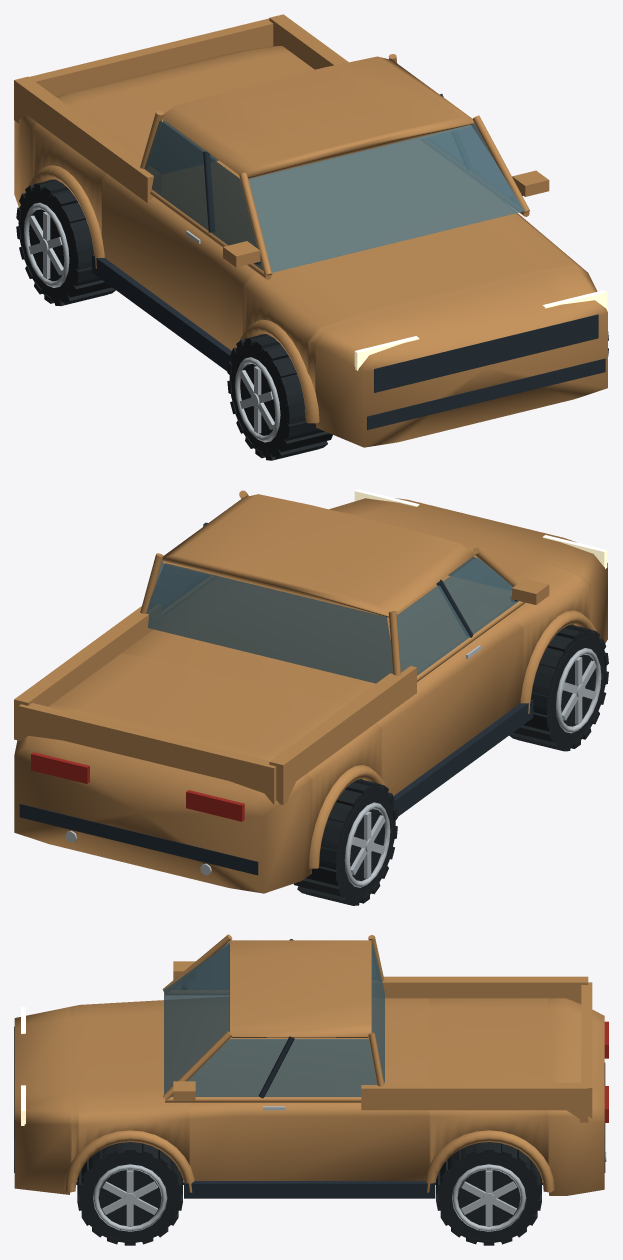
File: raptor.glb
3 views of the same model, one above another, from view 1: azimuth 30°, elevation 25°; view 2: azimuth 150°, elevation 25°; view 3: azimuth 270°, elevation 25° (orthographic). The views are drawn at different scales.
Parts seen in each view (by area): view 1: exterior-paint, windows, black-trim, tire-front-left, tire-rear-left, rim-rear-left, rim-front-left, headlights; view 2: exterior-paint, windows, black-trim, tire-rear-left, tire-front-left, taillights, rim-front-left, rim-rear-left, headlights; view 3: exterior-paint, windows, tire-rear-right, tire-front-right, black-trim, rim-front-right, rim-rear-right.
Part boxes in pixels (x1,y1,x2,y2): exterior-paint: (14, 14, 607, 447); windows: (144, 120, 524, 272); black-trim: (92, 94, 605, 430); tire-front-left: (227, 334, 332, 460); tire-rear-left: (16, 179, 115, 305); rim-rear-left: (24, 202, 69, 287); rim-front-left: (235, 357, 280, 442); headlights: (354, 290, 607, 370); exterior-paint: (14, 490, 607, 893); windows: (146, 556, 518, 683); black-trim: (19, 522, 533, 875); tire-rear-left: (294, 779, 397, 905); tire-front-left: (509, 624, 608, 751); taillights: (31, 752, 244, 821); rim-front-left: (555, 648, 601, 733); rim-rear-left: (344, 802, 390, 887); headlights: (354, 489, 607, 568); exterior-paint: (14, 934, 604, 1195); windows: (164, 942, 384, 1096); tire-rear-right: (436, 1142, 541, 1245); tire-front-right: (77, 1142, 182, 1245); black-trim: (14, 939, 605, 1198); rim-front-right: (93, 1164, 167, 1231); rim-rear-right: (452, 1164, 526, 1231).
Size of the model in its own units: 2.31 by 1.58 by 4.28.
